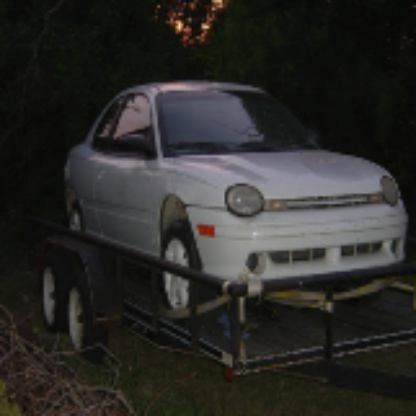Vehicle: (59, 76, 406, 310)
